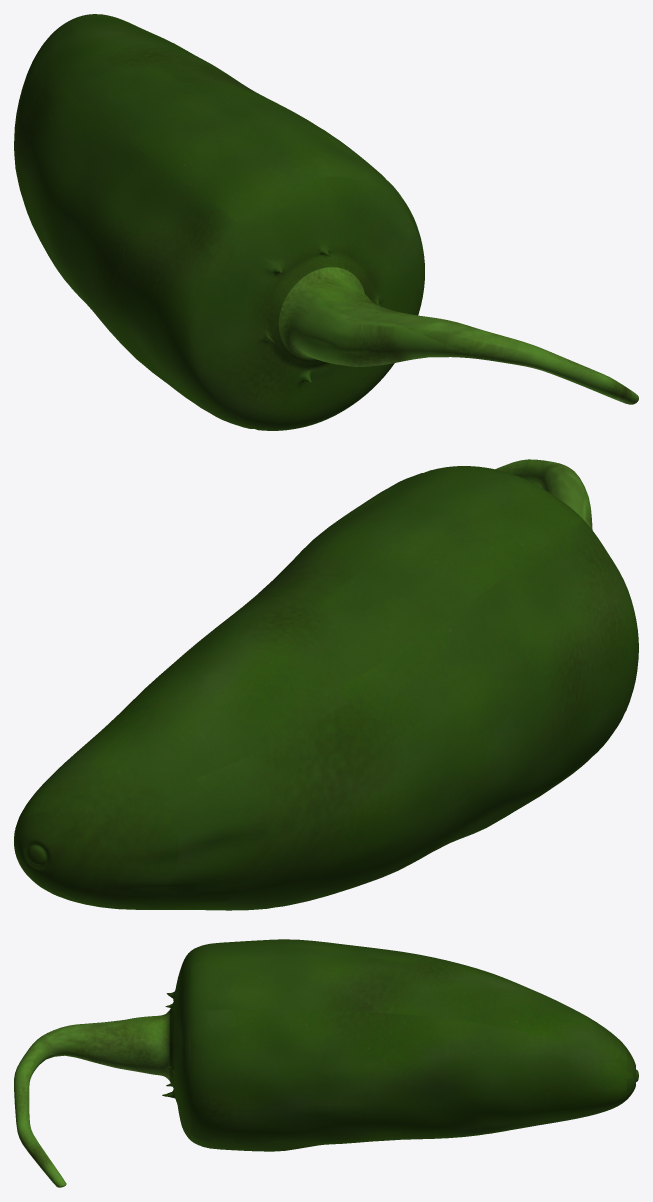
Rendered from pepper.obj.
The picture shows the model from 3 angles, top to bottom: view 1: azimuth 30°, elevation 25°; view 2: azimuth 150°, elevation 25°; view 3: azimuth 270°, elevation 25°; orthographic projection. The views are drawn at different scales.
Parts seen in each view (by area): view 1: JalapenoPepper; view 2: JalapenoPepper; view 3: JalapenoPepper.
Part boxes in pixels (x1,y1,x2,y2): JalapenoPepper: (14, 14, 638, 430); JalapenoPepper: (14, 459, 638, 910); JalapenoPepper: (14, 939, 638, 1187).
Size of the model in its own units: 3.08 by 2.18 by 6.46.
Materials: 2 (2 with a texture image).
